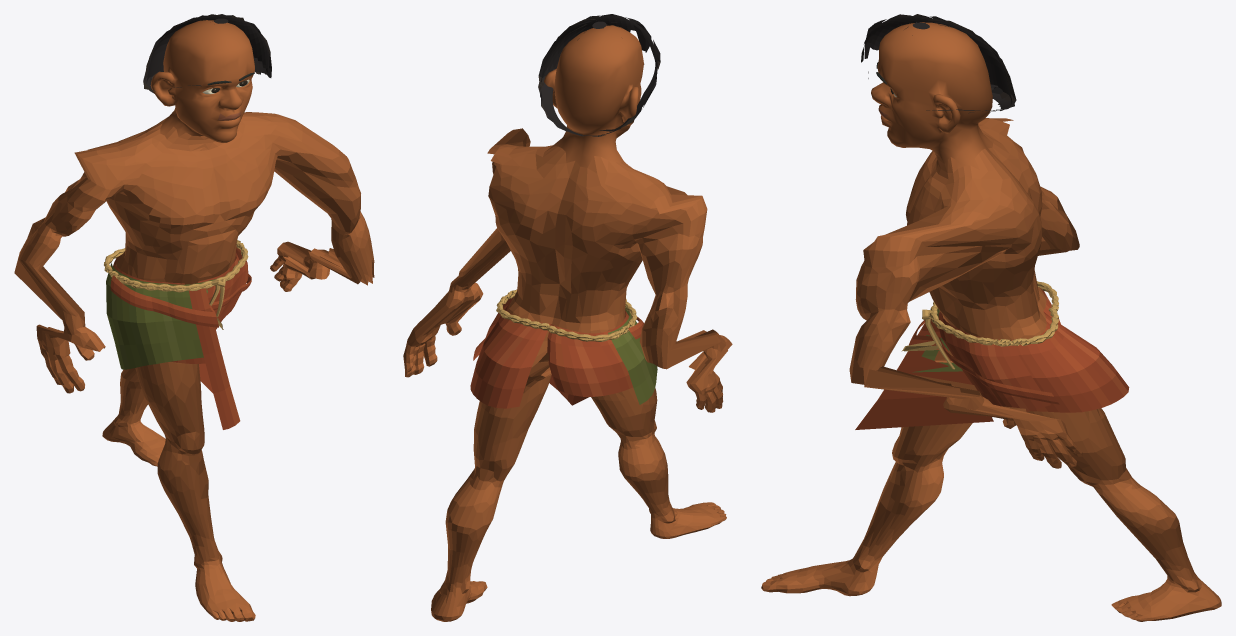
The model's file is homem_02.glb.
The picture shows the model from 3 angles, left to right: view 1: azimuth 30°, elevation 25°; view 2: azimuth 150°, elevation 25°; view 3: azimuth 270°, elevation 25°; orthographic projection. The views are drawn at different scales.
Parts seen in each view (by area): view 1: homem_02_corpo; view 2: homem_02_corpo; view 3: homem_02_corpo.
Part boxes in pixels (box(x1,y1,x2,y2)): homem_02_corpo: box(14, 14, 374, 621); homem_02_corpo: box(403, 14, 732, 621); homem_02_corpo: box(761, 14, 1221, 621).
Bounding box in the file's own units: 0.8514 × 1.56 × 1.1.
